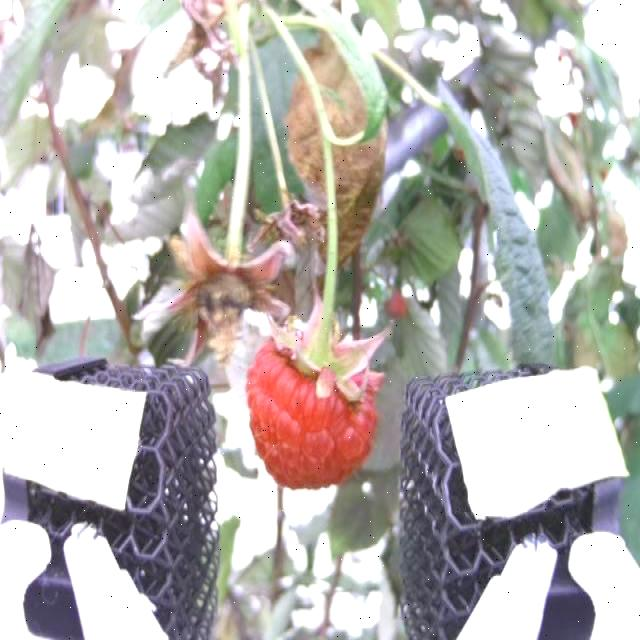Riped berries: (241, 302, 386, 490)
